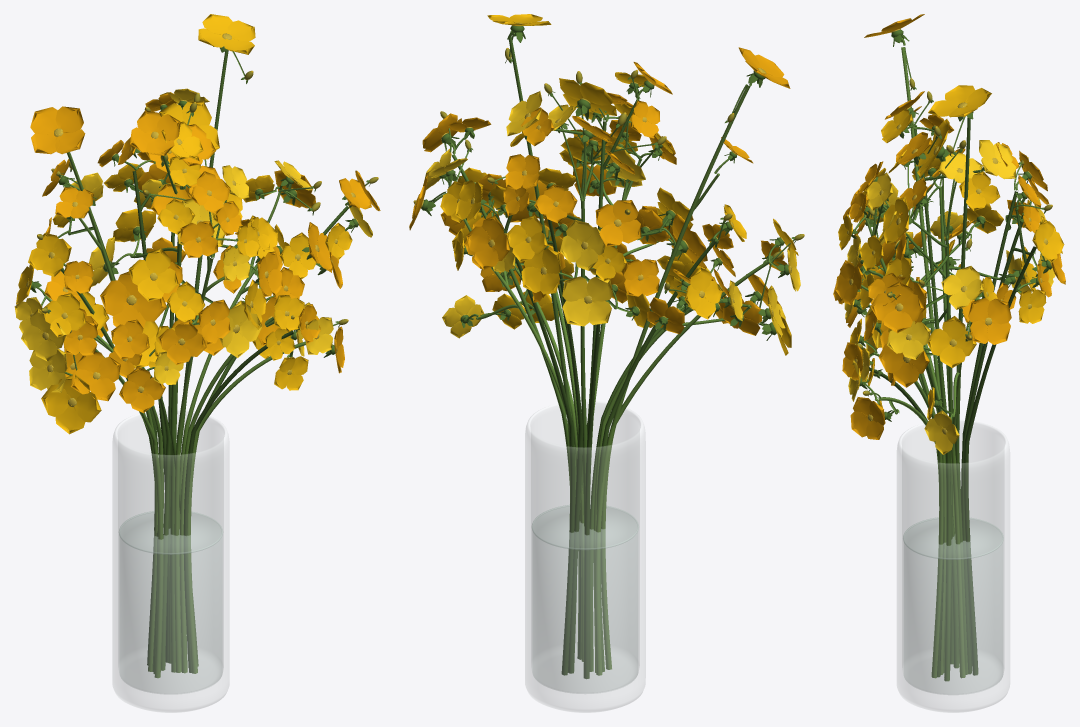
File: rapeseed_vase_wireframe.glb
3 renders of one model, left to right at view 1: azimuth 30°, elevation 25°; view 2: azimuth 150°, elevation 25°; view 3: azimuth 270°, elevation 25°, orthographic. The views are drawn at different scales.
Visible parts, largest first — view 1: Vase_Glass, Water_Volume, Water_Surface, Flower_E_tall_left_02_01, Flower_A_core_03_01, Flower_B_left_low_01_01, Stem_E_tall_left_trunk, Stem_N_center_fill_trunk, Flower_A_core_03_02, Flower_D_upper_mid_01_01, Flower_B_left_low_01_02, Flower_F_tall_right_01_01 (+52 smaller); view 2: Vase_Glass, Water_Volume, Water_Surface, Stem_E_tall_left_trunk, Stem_I_back_trunk, Stem_G_far_left_trunk, Flower_A_core_04_01, Stem_Q_back_fill_trunk, Stem_J_left_back_trunk, Flower_J_left_back_02_01, Flower_J_left_back_02_02, Flower_I_back_03_02 (+35 smaller); view 3: Vase_Glass, Water_Volume, Water_Surface, Stem_I_back_trunk, Flower_H_far_right_02_01, Flower_C_right_mid_03_01, Stem_F_tall_right_trunk, Flower_C_right_mid_05_01, Stem_Q_back_fill_trunk, Stem_C_right_mid_trunk, Stem_D_upper_mid_trunk, Stem_K_low_right_trunk (+39 smaller).
Part boxes in pixels (bbox=[...]): Vase_Glass: bbox=[112, 409, 229, 712]; Water_Volume: bbox=[120, 538, 221, 693]; Water_Surface: bbox=[120, 511, 221, 553]; Flower_E_tall_left_02_01: bbox=[30, 106, 85, 154]; Flower_A_core_03_01: bbox=[100, 271, 166, 327]; Flower_B_left_low_01_01: bbox=[41, 374, 101, 434]; Stem_E_tall_left_trunk: bbox=[67, 152, 163, 677]; Stem_N_center_fill_trunk: bbox=[174, 258, 213, 672]; Flower_A_core_03_02: bbox=[128, 248, 178, 301]; Flower_D_upper_mid_01_01: bbox=[130, 110, 180, 155]; Flower_B_left_low_01_02: bbox=[70, 352, 120, 401]; Flower_F_tall_right_01_01: bbox=[198, 14, 255, 54]; Vase_Glass: bbox=[525, 400, 645, 712]; Water_Volume: bbox=[533, 532, 637, 693]; Water_Surface: bbox=[532, 505, 637, 548]; Stem_E_tall_left_trunk: bbox=[600, 85, 750, 669]; Stem_I_back_trunk: bbox=[494, 214, 575, 675]; Stem_G_far_left_trunk: bbox=[594, 260, 769, 675]; Flower_A_core_04_01: bbox=[562, 276, 613, 326]; Stem_Q_back_fill_trunk: bbox=[547, 219, 582, 673]; Stem_J_left_back_trunk: bbox=[583, 324, 600, 678]; Flower_J_left_back_02_01: bbox=[595, 200, 641, 246]; Flower_J_left_back_02_02: bbox=[560, 219, 604, 270]; Flower_I_back_03_02: bbox=[466, 215, 509, 269]; Vase_Glass: bbox=[897, 419, 1009, 712]; Water_Volume: bbox=[904, 543, 1002, 694]; Water_Surface: bbox=[904, 518, 1002, 558]; Stem_I_back_trunk: bbox=[963, 246, 1036, 675]; Flower_H_far_right_02_01: bbox=[870, 281, 924, 333]; Flower_C_right_mid_03_01: bbox=[968, 298, 1011, 344]; Stem_F_tall_right_trunk: bbox=[955, 117, 970, 674]; Flower_C_right_mid_05_01: bbox=[927, 316, 976, 367]; Stem_Q_back_fill_trunk: bbox=[961, 215, 1023, 674]; Stem_C_right_mid_trunk: bbox=[951, 363, 965, 678]; Stem_D_upper_mid_trunk: bbox=[920, 166, 951, 681]; Stem_K_low_right_trunk: bbox=[877, 397, 943, 678].
Size of the model in its own units: 0.2512 by 0.4389 by 0.1473.
